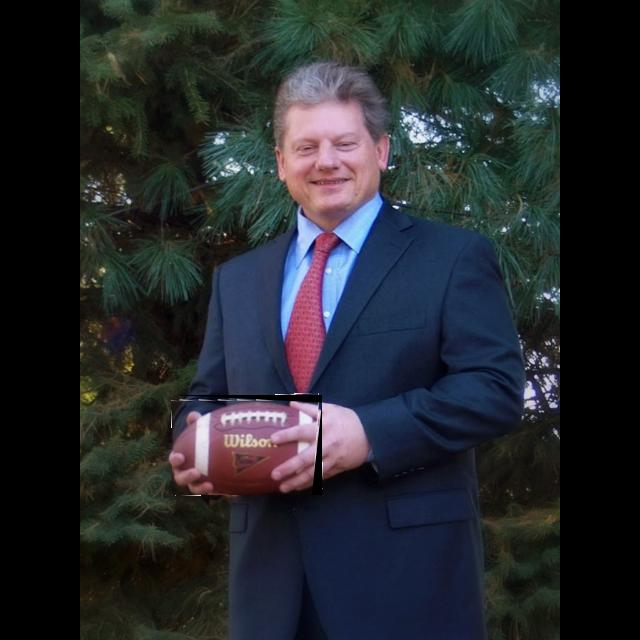Football: (172, 395, 322, 495)
